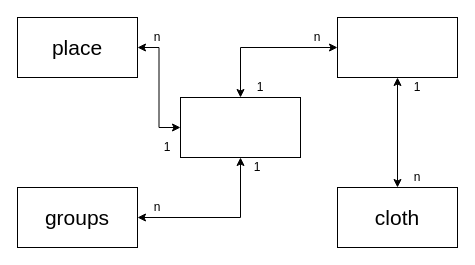
Image size: 475x265. Some labels were removed from this diagram. Each missing label, with the centre of its shape:
"category" belongs at point 397,47.
"user" belongs at point 240,127.
